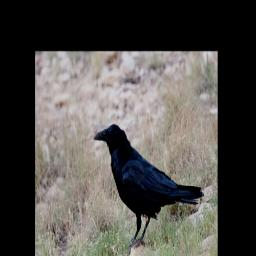Crow: (93, 123, 205, 253)
